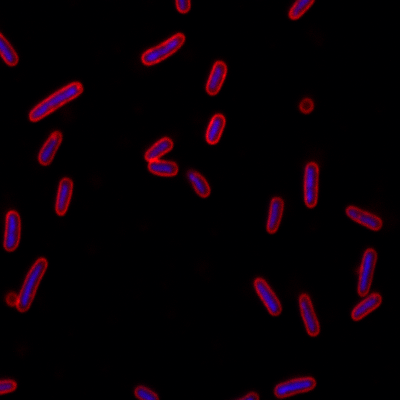Oblique: (183, 167, 215, 201)
Rifampicin: (27, 81, 83, 123), (15, 256, 51, 314), (138, 31, 186, 69), (343, 203, 384, 234), (252, 276, 283, 317), (34, 128, 64, 168), (355, 248, 378, 297), (349, 292, 384, 324), (297, 291, 320, 338), (273, 375, 317, 399), (301, 160, 321, 209), (1, 209, 23, 252), (205, 58, 228, 96), (143, 135, 176, 161), (52, 177, 73, 216), (204, 113, 227, 147), (265, 195, 285, 234), (146, 158, 180, 178)
Vesicle: (298, 95, 315, 116)
